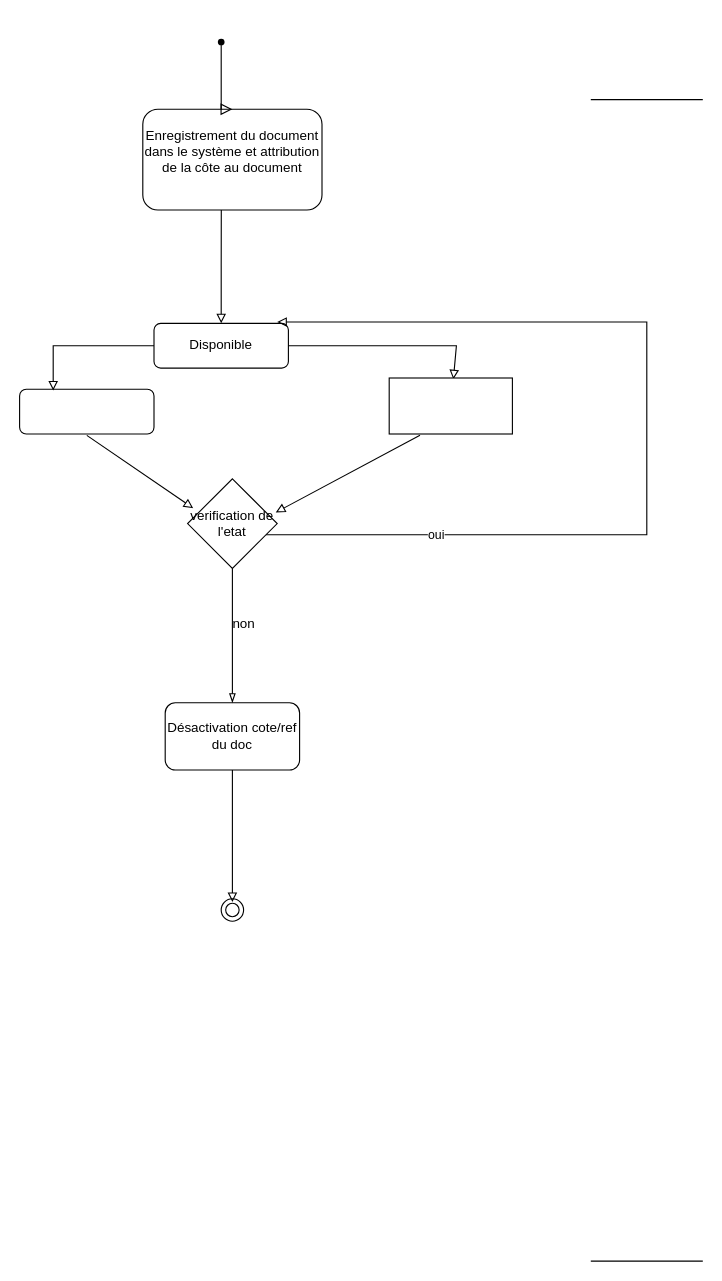
The diagram is 722 pixels wide and 1281 high, and some of its shapes have lost their labels. The shapes that lost their labels are listed below. From the top down, each one's centre as x and y in pixels, then its label:
At pixel 86 411: "Consultation".
At pixel 450 405: "Location".
